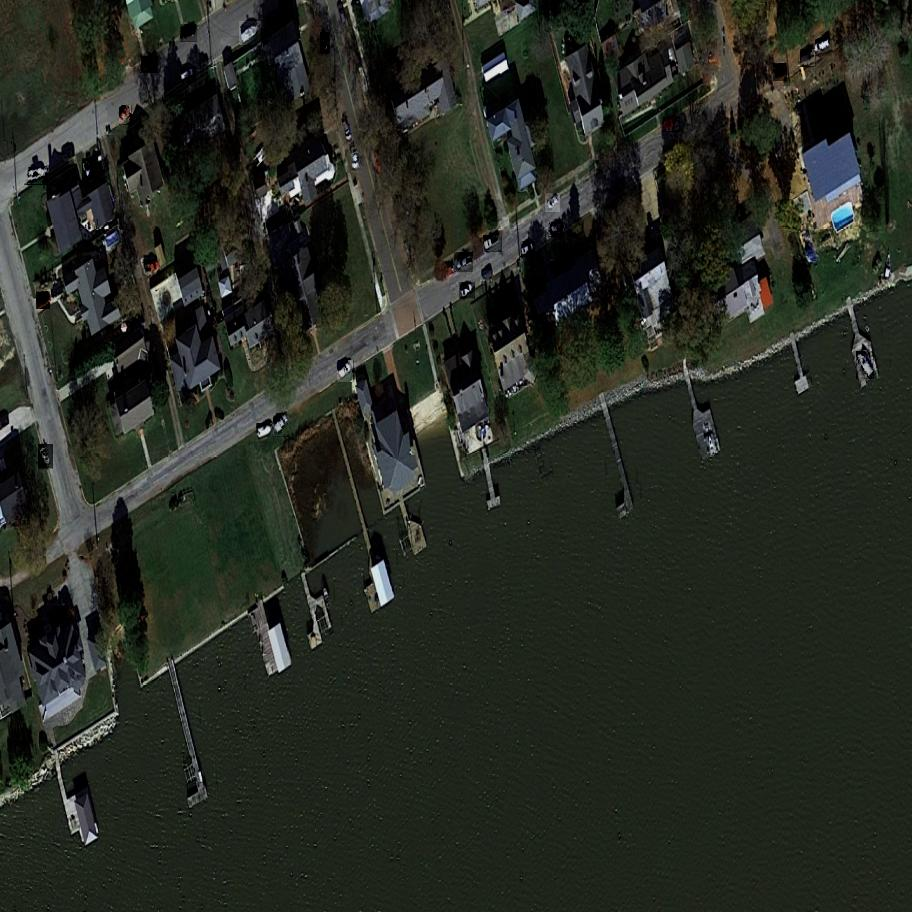ship: (236, 21, 264, 46), (855, 351, 877, 379), (254, 424, 278, 444), (25, 168, 50, 185)
small-vehicle: (452, 252, 478, 273), (271, 414, 293, 437), (336, 360, 358, 383), (82, 158, 98, 186), (177, 25, 201, 42), (812, 40, 836, 57), (38, 445, 55, 469), (276, 0, 296, 19), (544, 194, 564, 213), (141, 259, 162, 277), (482, 236, 504, 253), (340, 118, 354, 144), (771, 64, 791, 82), (178, 67, 199, 84), (139, 57, 161, 73), (797, 50, 819, 66), (458, 283, 477, 300), (35, 292, 54, 309), (119, 105, 135, 125), (518, 242, 538, 258), (661, 118, 681, 132), (547, 223, 566, 237), (480, 270, 497, 284), (320, 33, 331, 54), (708, 38, 716, 63), (351, 148, 359, 173)
